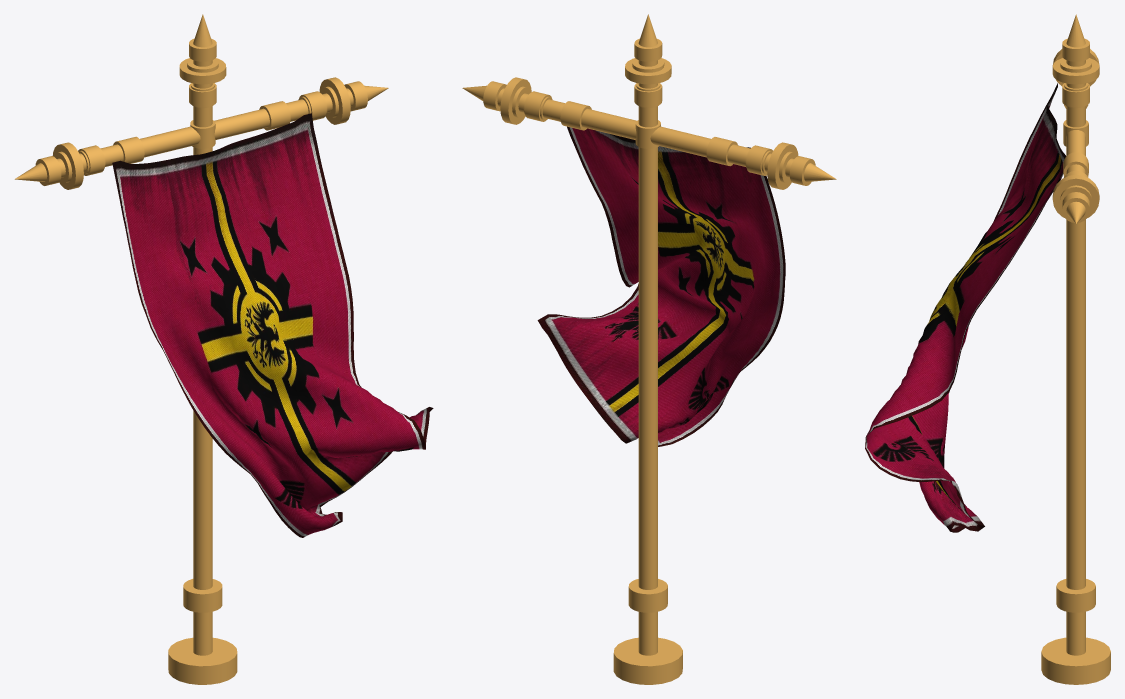
Rendered from flag_pole_274fda.glb.
3 views of the same model, side by side, from view 1: azimuth 30°, elevation 25°; view 2: azimuth 150°, elevation 25°; view 3: azimuth 270°, elevation 25° (orthographic).
Parts seen in each view (by area): view 1: outputCloth1 (×4), imagePlane2Shape_2_0; view 2: outputCloth1 (×4), imagePlane2Shape_2_0; view 3: outputCloth1 (×4), imagePlane2Shape_2_0.
Part boxes in pixels (box(x1,y1,x2,y2)): outputCloth1 (×4): box(112, 113, 433, 537); imagePlane2Shape_2_0: box(14, 14, 388, 684); outputCloth1 (×4): box(537, 126, 785, 446); imagePlane2Shape_2_0: box(462, 14, 836, 684); outputCloth1 (×4): box(865, 83, 1066, 532); imagePlane2Shape_2_0: box(1041, 14, 1110, 684).
Bounding box in the file's own units: 20.49 × 34.33 × 11.65.
Materials: 2 (1 with a texture image).
